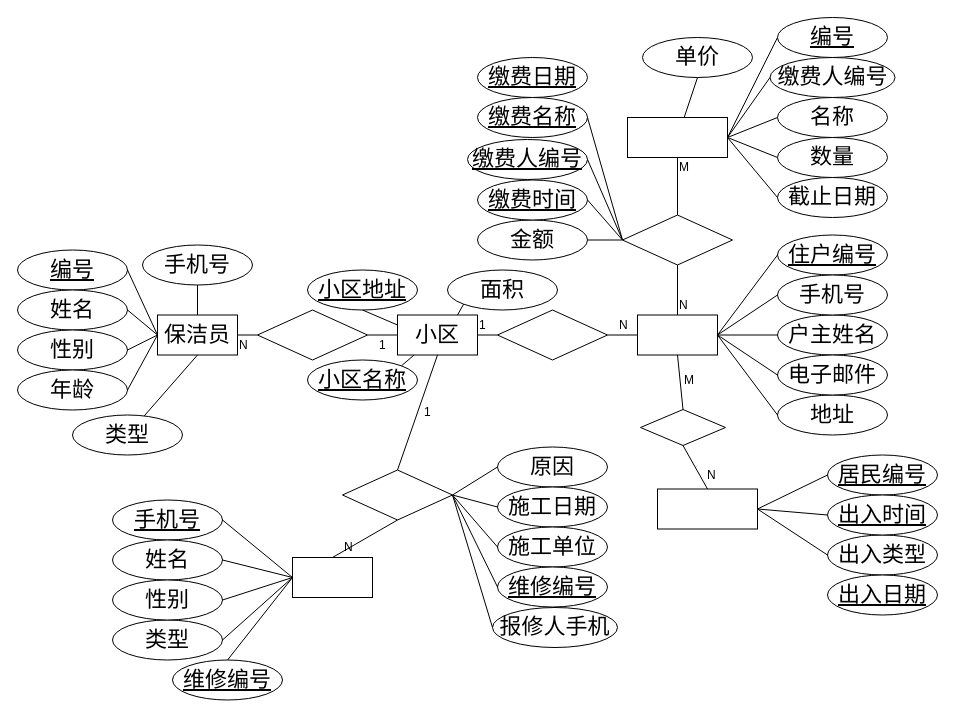
Image size: 955x718. Some labels were removed from this diagram. Here are the shapes that lost their labels. From the top down, the centre of each, then its label:
At [677,137]: "缴费项".
At [677,239]: "缴费".
At [312,334]: "保洁".
At [552,334]: "拥有".
At [677,334]: "住户".
At [397,494]: "维修".
At [707,508]: "居民出入".
At [332,577]: "维修工".
